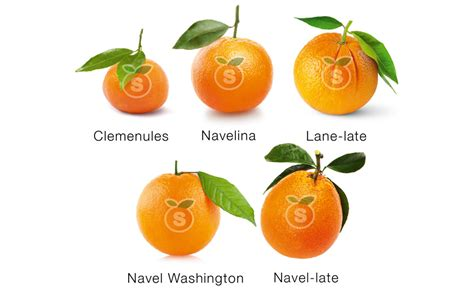orange: (258, 169, 342, 260), (134, 171, 221, 258), (293, 31, 381, 116), (193, 35, 274, 122), (100, 54, 170, 115)
